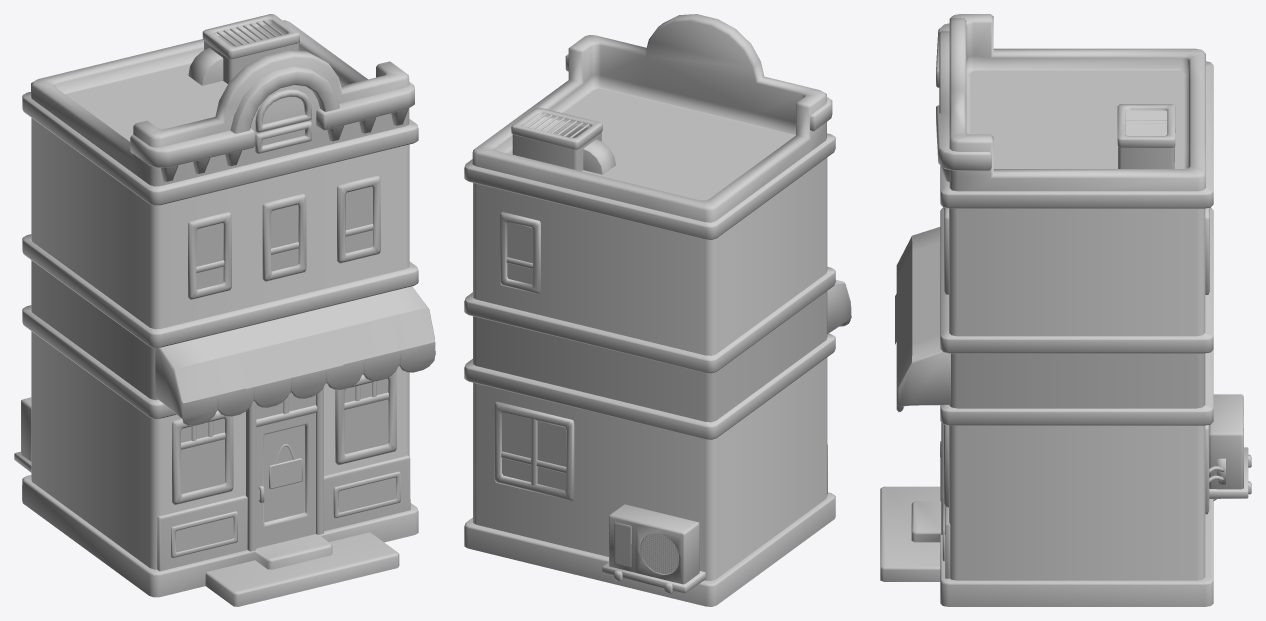
File: barber_shop_02.fbx
3 views of the same model, side by side, from view 1: azimuth 30°, elevation 25°; view 2: azimuth 150°, elevation 25°; view 3: azimuth 270°, elevation 25° (orthographic). The views are drawn at different scales.
Parts seen in each view (by area): view 1: barber_shop_02, barber_shop_bricks_02, barber_shop_texture_02; view 2: barber_shop_02, barber_shop_bricks_02, barbershop_wire_02; view 3: barber_shop_02, barber_shop_bricks_02, barber_shop_texture_02.
Part boxes in pixels (bbox=[...]): barber_shop_02: bbox=[14, 14, 435, 606]; barber_shop_bricks_02: bbox=[31, 118, 409, 569]; barber_shop_texture_02: bbox=[181, 322, 388, 492]; barber_shop_02: bbox=[464, 14, 851, 606]; barber_shop_bricks_02: bbox=[473, 158, 827, 580]; barbershop_wire_02: bbox=[641, 533, 678, 574]; barber_shop_02: bbox=[880, 14, 1251, 606]; barber_shop_bricks_02: bbox=[949, 208, 1205, 580]; barber_shop_texture_02: bbox=[895, 267, 910, 357].
Bounding box in the file's own units: 2.96 × 5.31 × 3.48.
